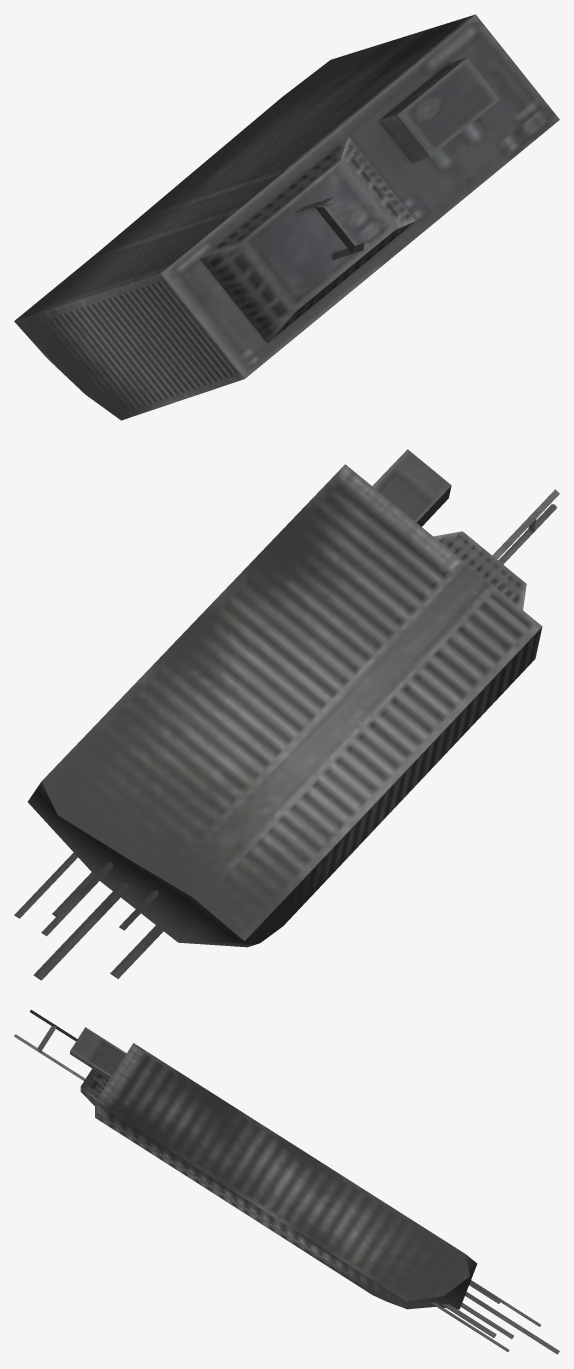
Rendered from skyBuildingAAC_pos_grp (21).fbx.
The picture shows the model from 3 angles, top to bottom: view 1: azimuth 30°, elevation 25°; view 2: azimuth 150°, elevation 25°; view 3: azimuth 270°, elevation 25°; orthographic projection. The views are drawn at different scales.
Visible parts, largest first — view 1: skyBuildingAAC_geo; view 2: skyBuildingAAC_geo; view 3: skyBuildingAAC_geo.
Part boxes in pixels (x1=…): skyBuildingAAC_geo: x1=14, y1=14, x2=559, y2=420; skyBuildingAAC_geo: x1=14, y1=449, x2=559, y2=980; skyBuildingAAC_geo: x1=14, y1=1009, x2=559, y2=1354.
Size of the model in its own units: 7.51 by 7.75 by 12.89.
